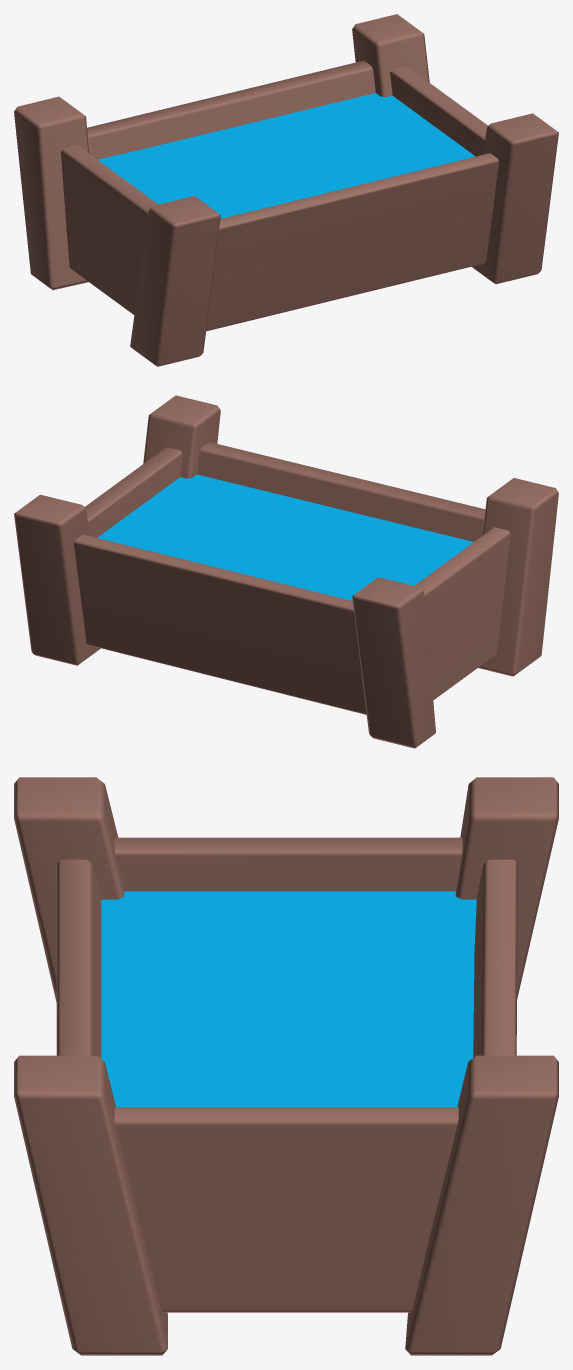
Rendered from Farm_15_Drinking_bowl_1.glb.
3 renders of one model, top to bottom at view 1: azimuth 30°, elevation 25°; view 2: azimuth 150°, elevation 25°; view 3: azimuth 270°, elevation 25°, orthographic. The views are drawn at different scales.
Parts seen in each view (by area): view 1: Farm_15_Drinking_bowl_1; view 2: Farm_15_Drinking_bowl_1; view 3: Farm_15_Drinking_bowl_1.
Part boxes in pixels (bbox=[...]): Farm_15_Drinking_bowl_1: bbox=[14, 14, 558, 366]; Farm_15_Drinking_bowl_1: bbox=[14, 395, 558, 748]; Farm_15_Drinking_bowl_1: bbox=[14, 777, 558, 1355].
Bounding box in the file's own units: 1.08 × 0.4212 × 0.7835.
1 material, 1 textured.
